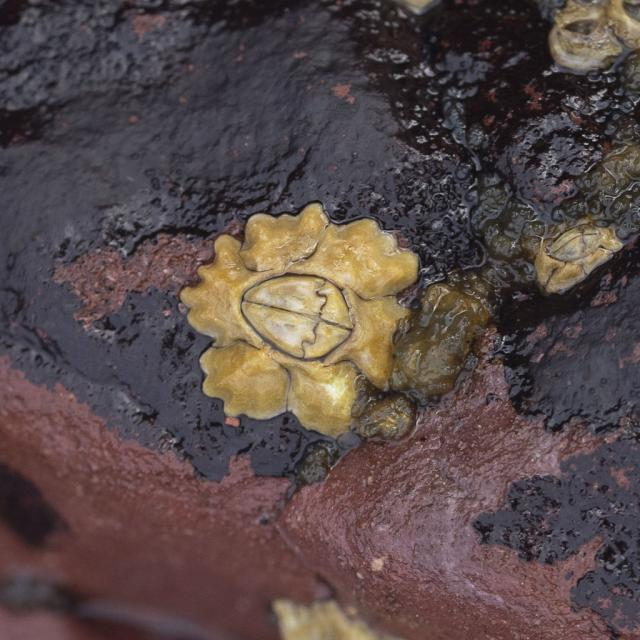barnacles: (186, 200, 424, 434)
